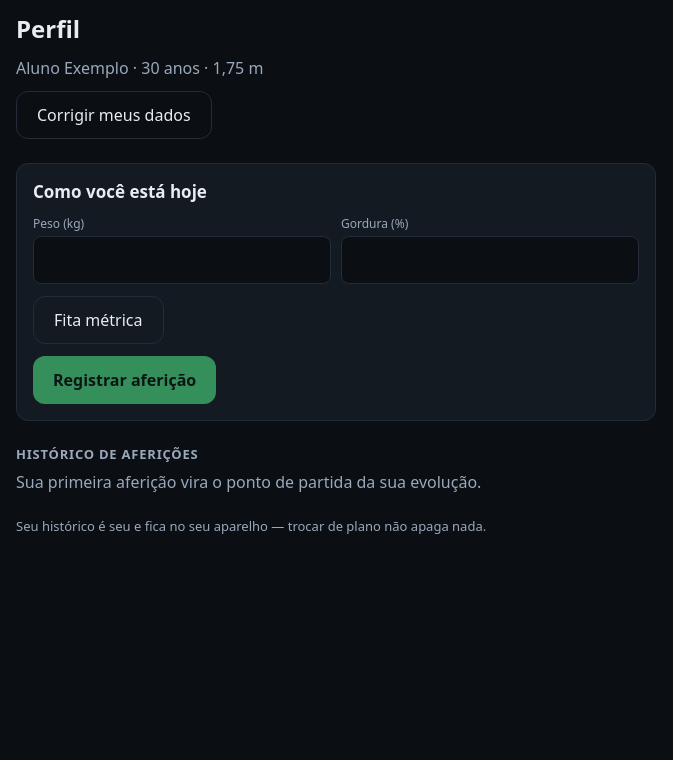
TelaPerfil › quem é o aluno › o aluno corrige a própria idade, e a correção vai para o vault
The image size is (673, 760).
Step 1. Click the button "Corrigir meus dados" → (114,115), box [16,91,212,139]
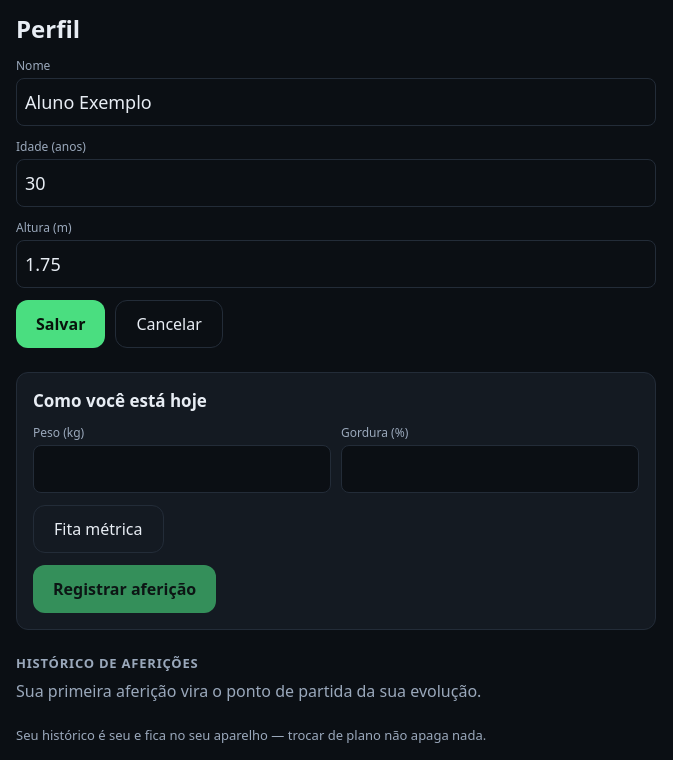
Step 2. Replace the text in the number field labelled "Idade (anos)" with "31" → (336,183), box [16,159,656,207]
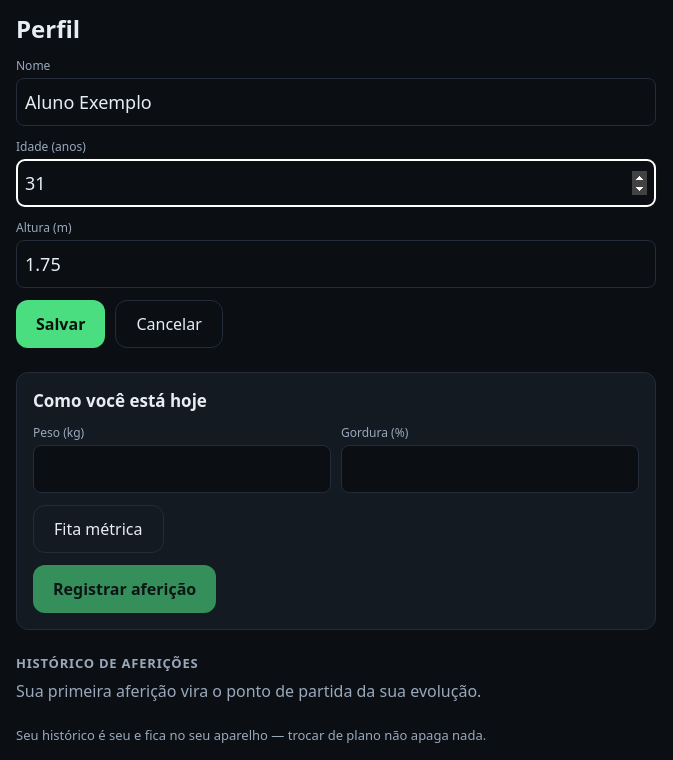
Step 3. Click the button "Salvar" → (61,324), box [16,300,105,348]
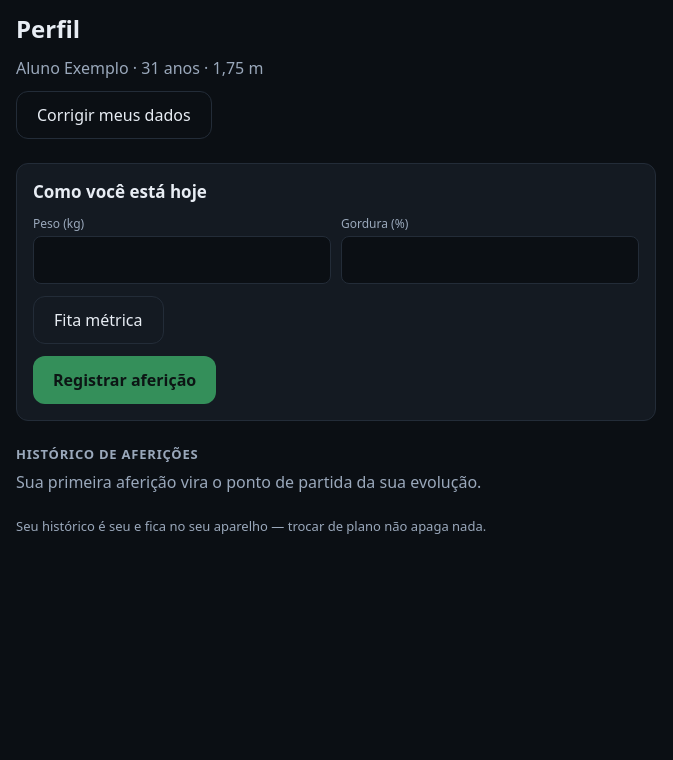
Result: the text "Aluno Exemplo · 31 anos · 1,75 m" is shown at [16,57,263,79]
